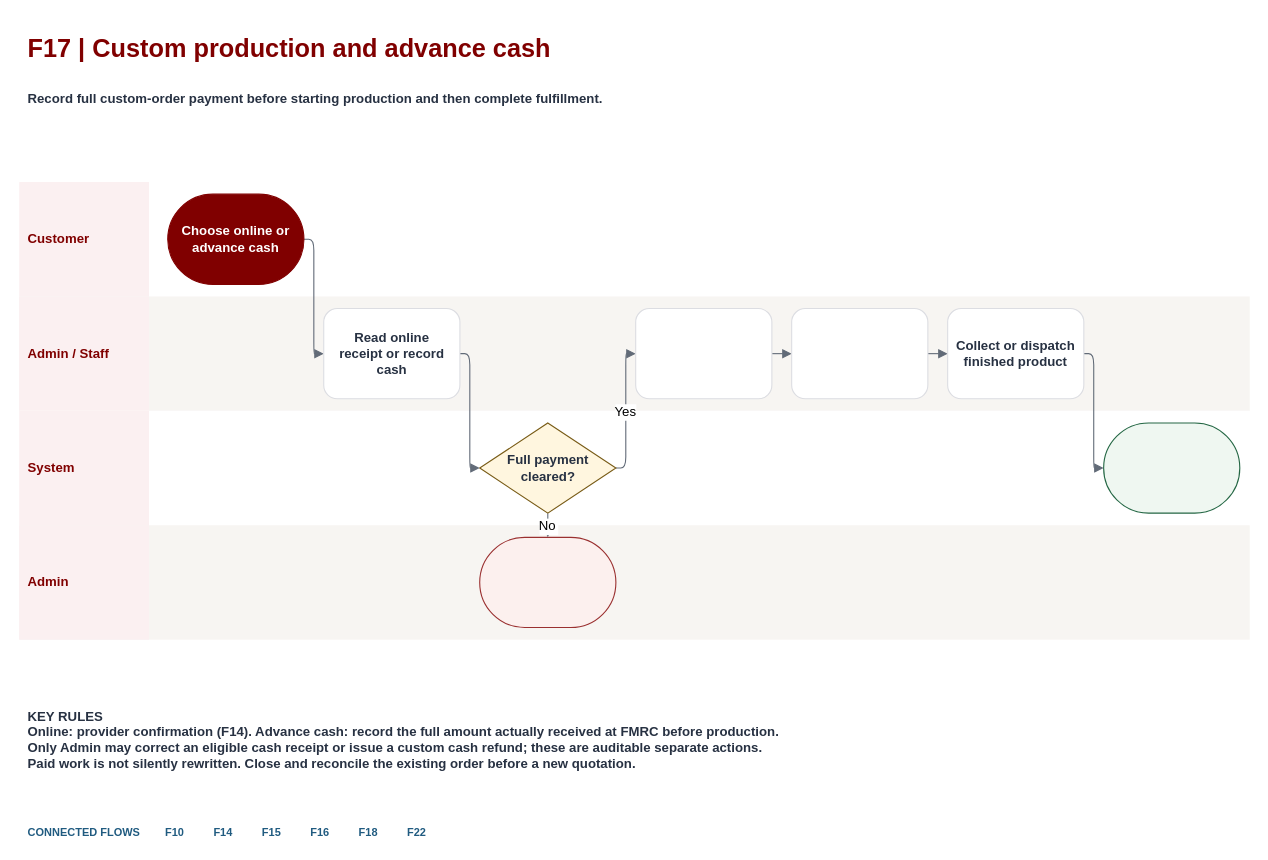
Image size: 1268x860. Some labels were removed from this diagram. Each missing label, with the box of its shape:
Mark finished product ready: (791, 307, 928, 399)
Resolve payment, correction or refund: (479, 536, 616, 628)
Retain payment and production log: (1103, 422, 1240, 513)
Start production: (635, 307, 772, 399)
